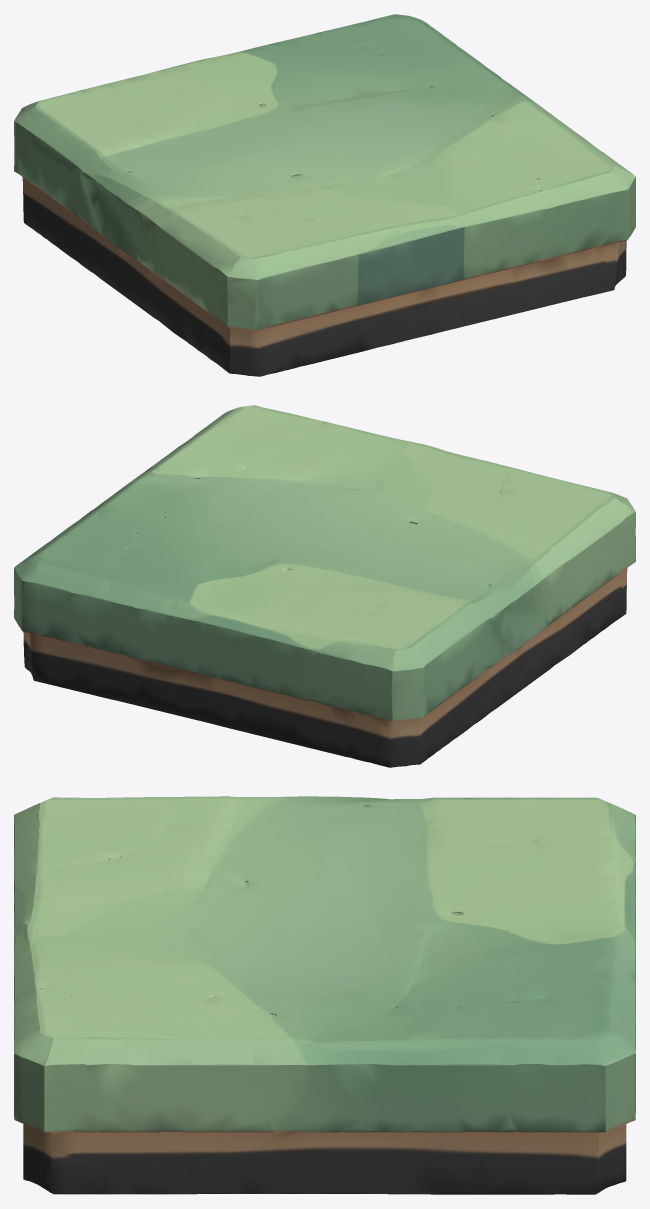
File: PROP_C1_GRASS.glb
3 renders of one model, top to bottom at view 1: azimuth 30°, elevation 25°; view 2: azimuth 150°, elevation 25°; view 3: azimuth 270°, elevation 25°, orthographic. The views are drawn at different scales.
Parts seen in each view (by area): view 1: world; view 2: world; view 3: world.
Boxes of the visible parts, bbox=[...] form: world: bbox=[14, 14, 635, 376]; world: bbox=[14, 405, 635, 767]; world: bbox=[14, 796, 635, 1194].
Size of the model in its own units: 1 by 0.2658 by 0.9972.
1 material, 1 textured.
